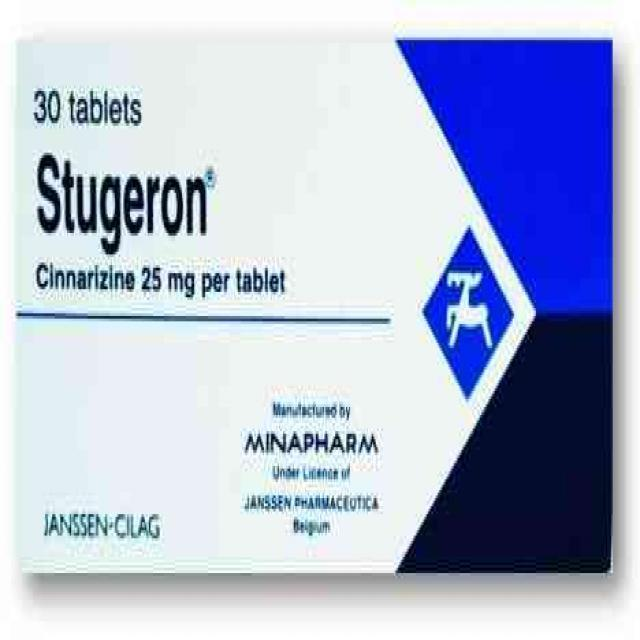drug-name: (32, 150, 219, 256)
